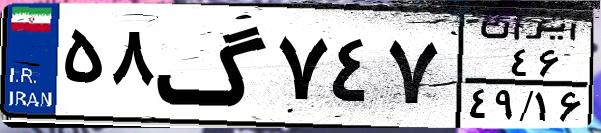1: (535, 70, 560, 125)
4: (330, 28, 385, 110), (508, 27, 537, 80), (470, 70, 495, 125)
5: (57, 26, 110, 100)
6: (560, 70, 590, 125), (537, 27, 568, 80)
7: (270, 28, 330, 110), (385, 28, 445, 110)
8: (110, 28, 156, 98)
9: (495, 70, 520, 125)
گ: (156, 12, 270, 120)
